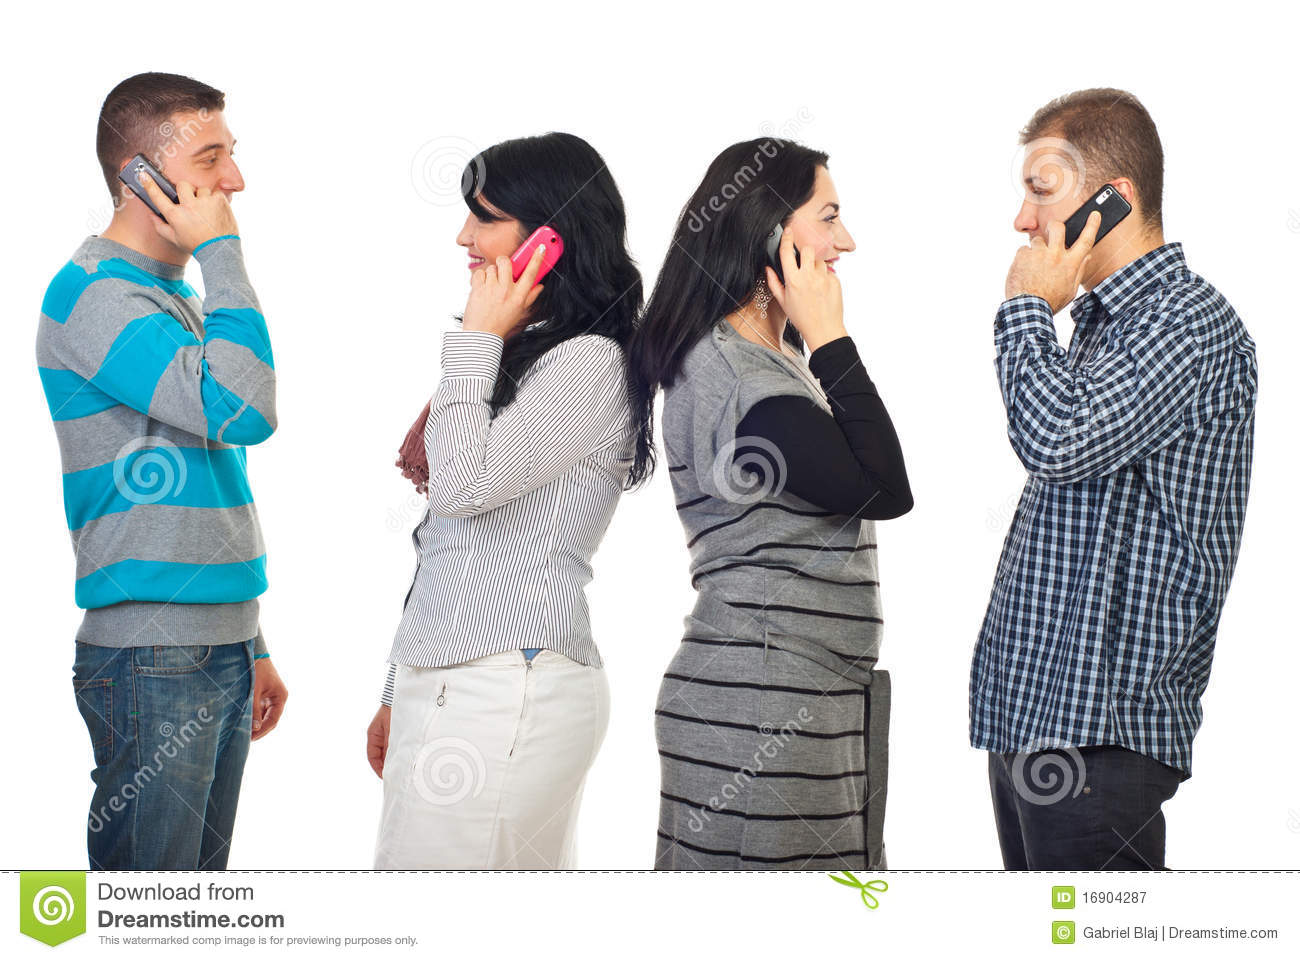phone: (1063, 186, 1130, 257), (120, 153, 183, 227), (508, 223, 564, 295), (765, 223, 804, 282)
talk: (995, 174, 1137, 329), (118, 134, 244, 265), (764, 199, 858, 352), (453, 209, 563, 327)
